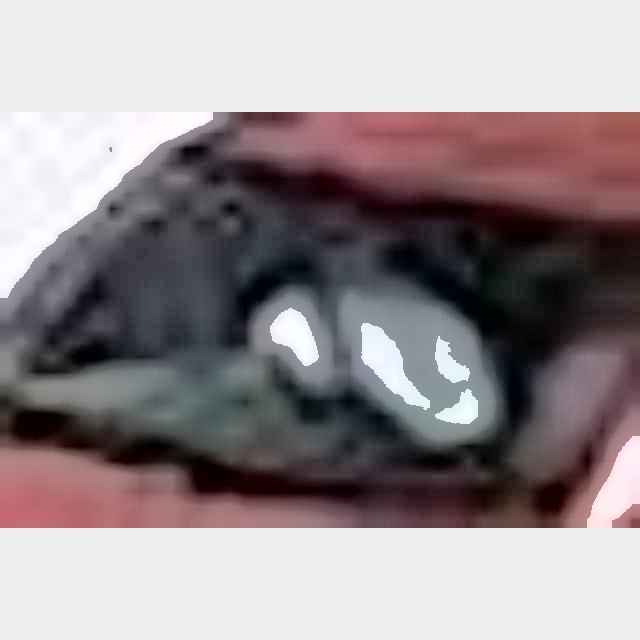pakai: (164, 216, 476, 439)
